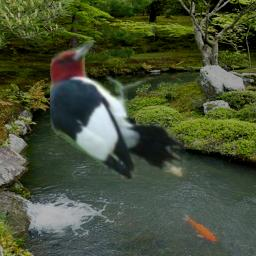Woodpecker: (50, 41, 188, 179)
